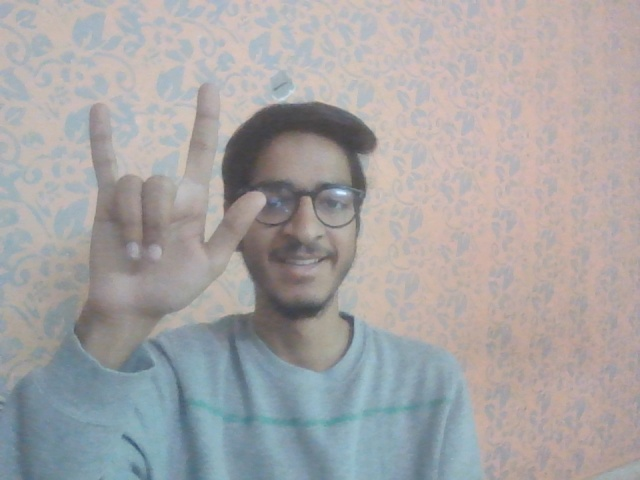ILoveYou: (81, 81, 270, 327)
